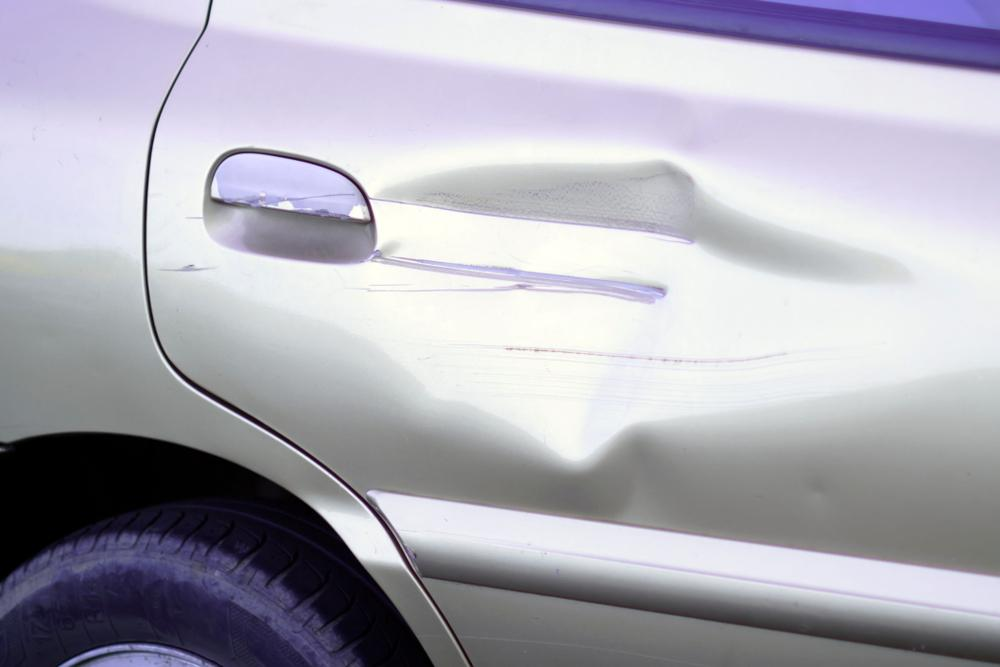dent: (229, 160, 952, 462)
